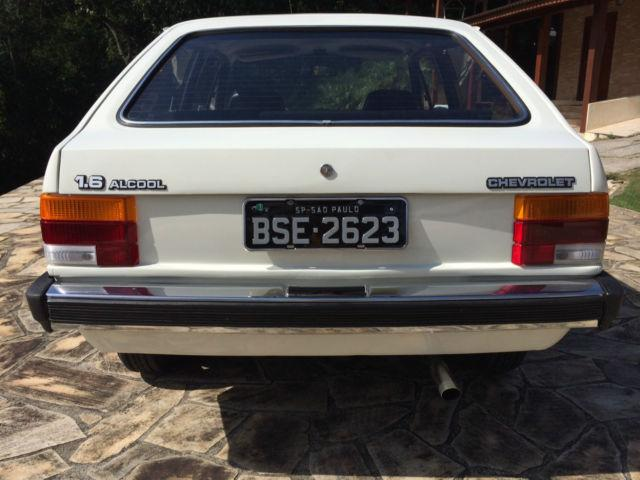chevette-1983: (26, 14, 621, 373)
